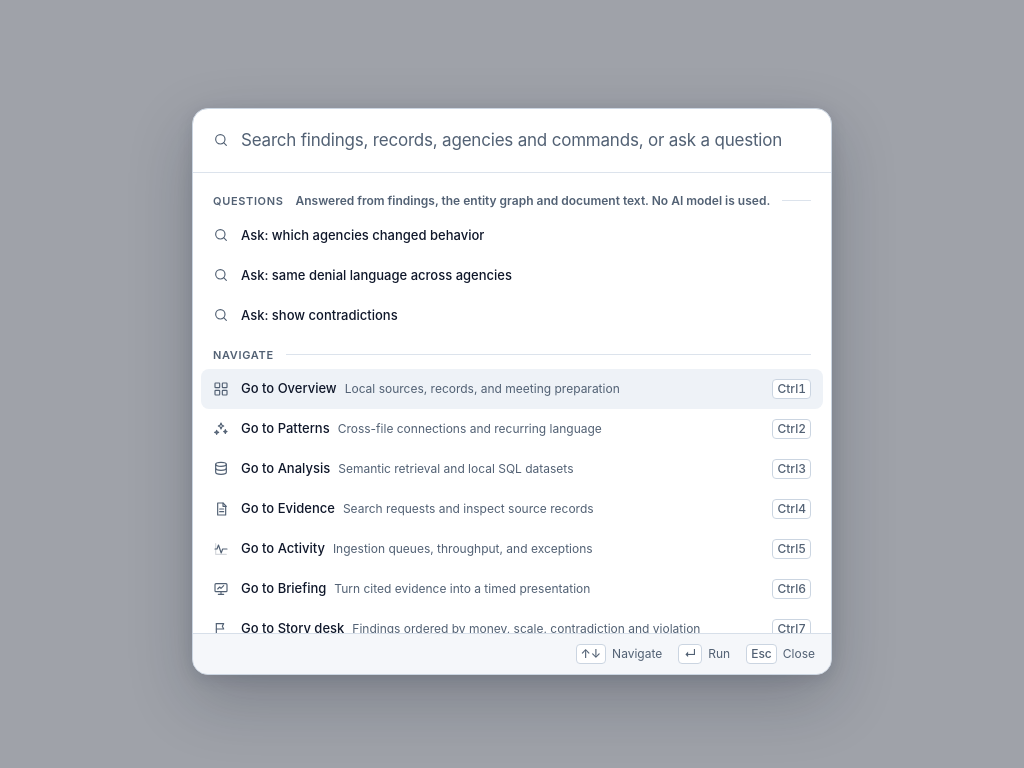
CommandPalette intent router › shows a missing citation as unavailable and a missing confidence as not assessed
The width and height of the screenshot is (1024, 768).
Replace the text in the dropdown with "show contradictions in agency Parks" at coordinates (526, 140), box [241, 108, 811, 172]
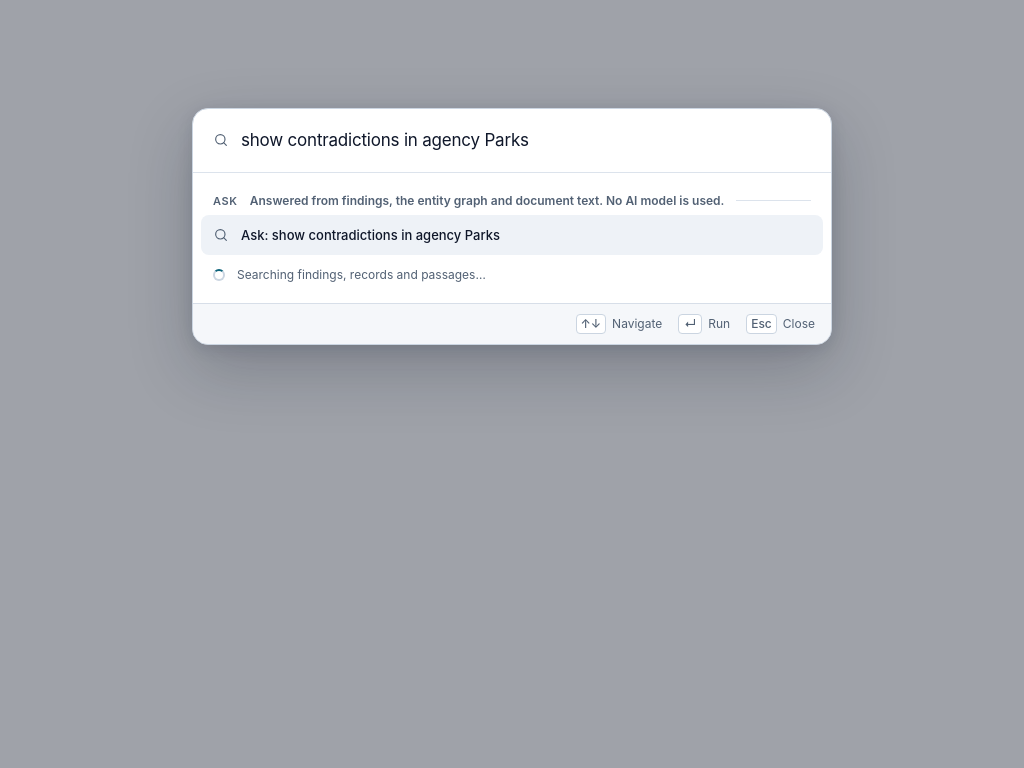
Press Enter
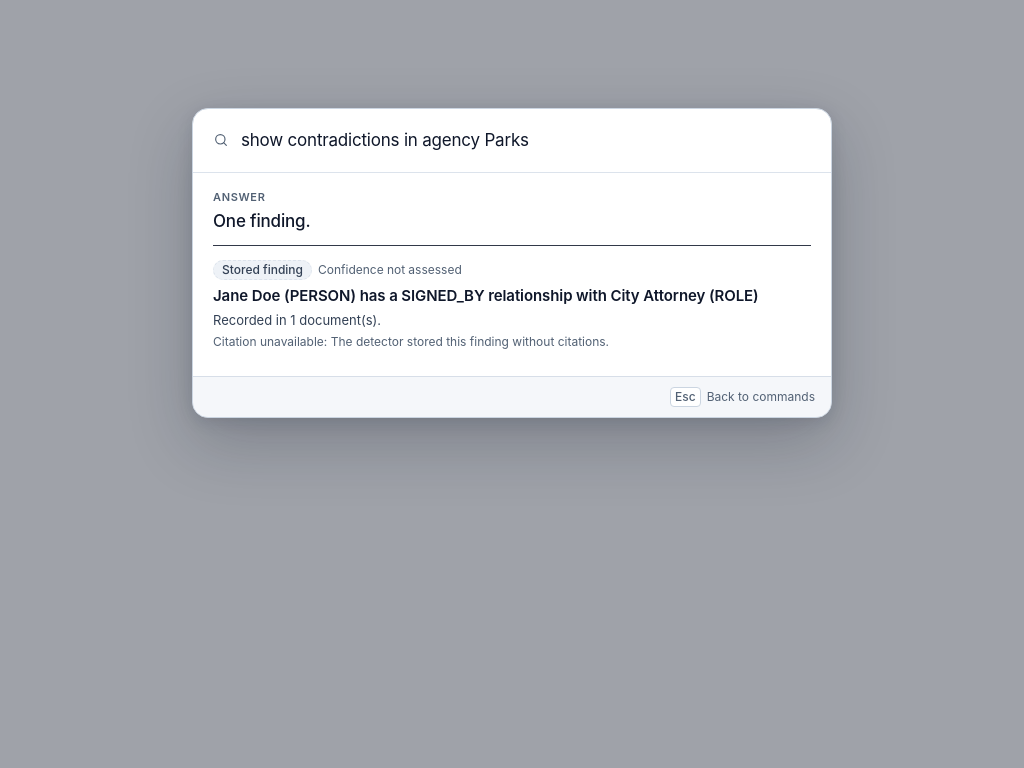
Now the text "Citation unavailable: The detector stored this finding without citations" is shown, box [213, 334, 609, 348]
Now the text "Confidence not assessed" is shown, box [318, 262, 462, 278]
